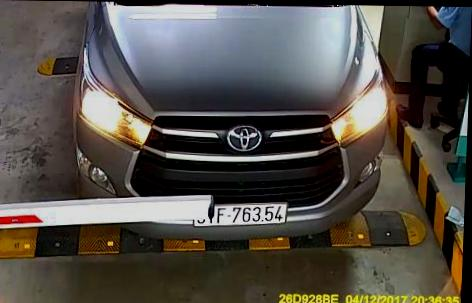License_Plate: (195, 202, 290, 227)
